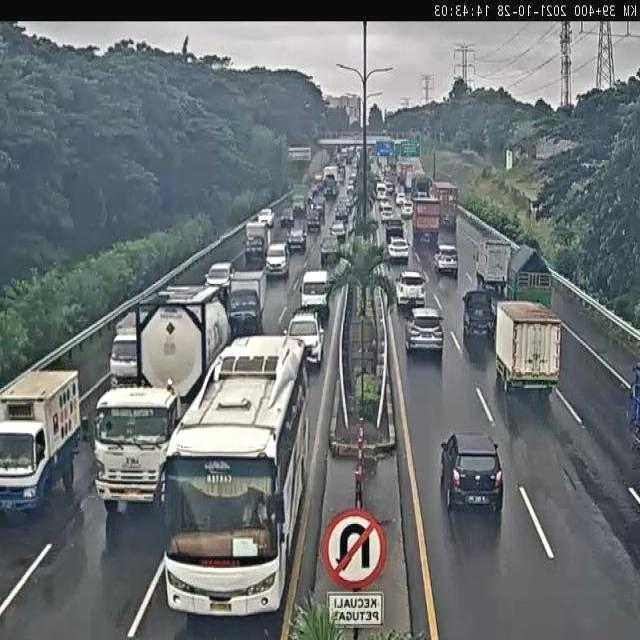Bus: (156, 332, 312, 623)
Car: (440, 432, 503, 511), (282, 306, 325, 368), (404, 307, 444, 355), (394, 269, 427, 311), (203, 261, 235, 297), (264, 242, 290, 280), (432, 244, 460, 274), (286, 224, 308, 254), (386, 236, 411, 262), (320, 237, 341, 260), (328, 221, 349, 241), (257, 208, 275, 227), (280, 207, 294, 227), (400, 200, 413, 218)
Truck: (89, 282, 231, 516), (0, 368, 80, 520), (493, 300, 563, 399), (107, 309, 152, 388), (507, 242, 552, 309), (228, 268, 267, 334), (472, 236, 512, 292), (461, 288, 496, 342), (430, 178, 459, 232), (412, 198, 440, 244), (243, 222, 267, 261), (289, 183, 310, 214)
Van: (299, 270, 331, 316), (376, 180, 388, 200)
